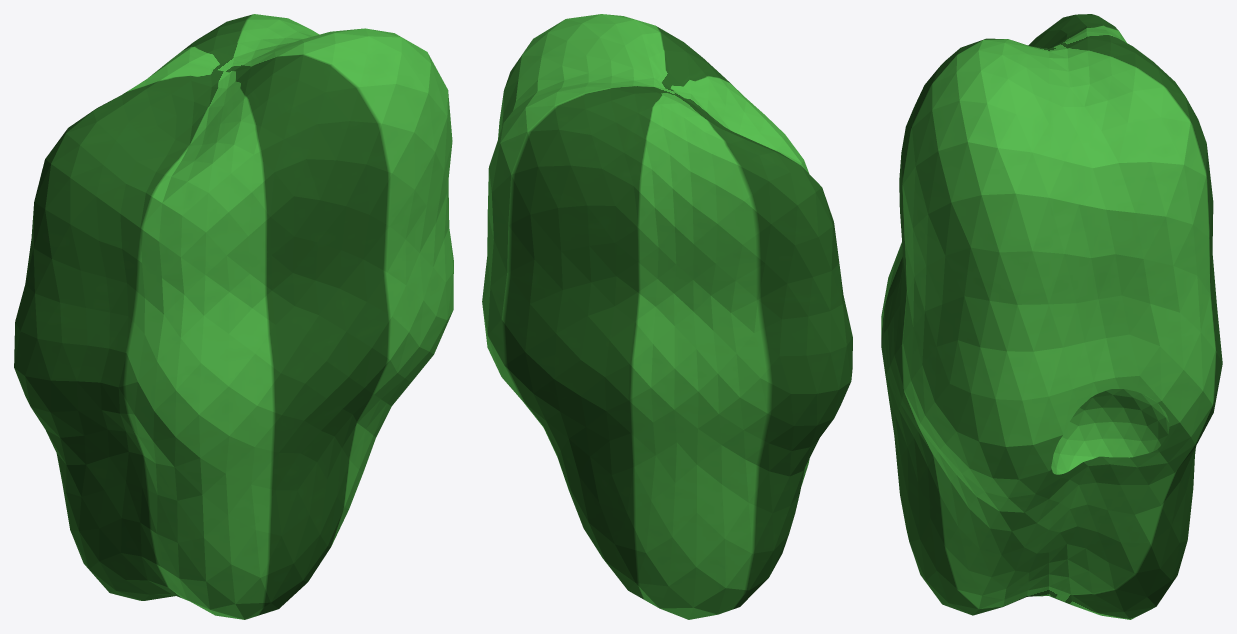
3 views of the same model, side by side, from view 1: azimuth 30°, elevation 25°; view 2: azimuth 150°, elevation 25°; view 3: azimuth 270°, elevation 25° (orthographic). The views are drawn at different scales.
Visible parts, largest first — view 1: geometry_0; view 2: geometry_0; view 3: geometry_0.
Part boxes in pixels (x1,y1,x2,y2): geometry_0: (14, 14, 453, 619); geometry_0: (482, 14, 852, 619); geometry_0: (881, 14, 1222, 619).
Bounding box in the file's own units: 2.34 × 3.16 × 1.56.
1 material, 1 textured.
